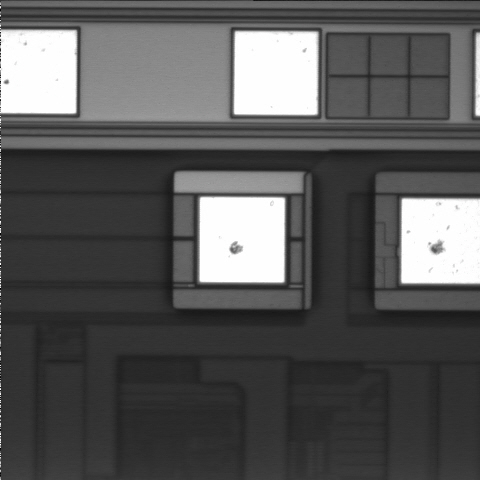pad: (200, 197, 285, 282), (234, 31, 318, 115)
